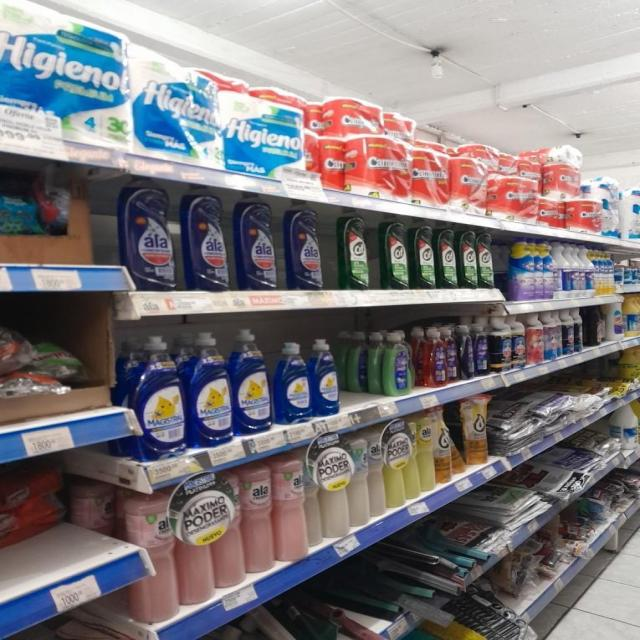ala_conc_azul: (119, 178, 175, 292), (182, 188, 230, 292), (234, 194, 279, 292), (284, 200, 326, 292)
ala_crem_amarillo: (385, 418, 406, 510), (417, 409, 435, 495)
ala_crem_blanco: (320, 436, 348, 540), (350, 430, 369, 528), (370, 424, 386, 519)
ala_crem_rosado: (124, 488, 177, 624), (242, 462, 274, 576), (274, 451, 306, 564)
cif_conc_botella_verde: (338, 208, 375, 290), (381, 217, 410, 290), (412, 222, 436, 290), (437, 226, 458, 289), (460, 229, 477, 289), (478, 232, 495, 289)
magistral_con_azul: (133, 334, 186, 460), (188, 331, 231, 448), (233, 329, 271, 435), (274, 340, 311, 425), (312, 338, 340, 418)
zorro: (384, 330, 412, 396)
